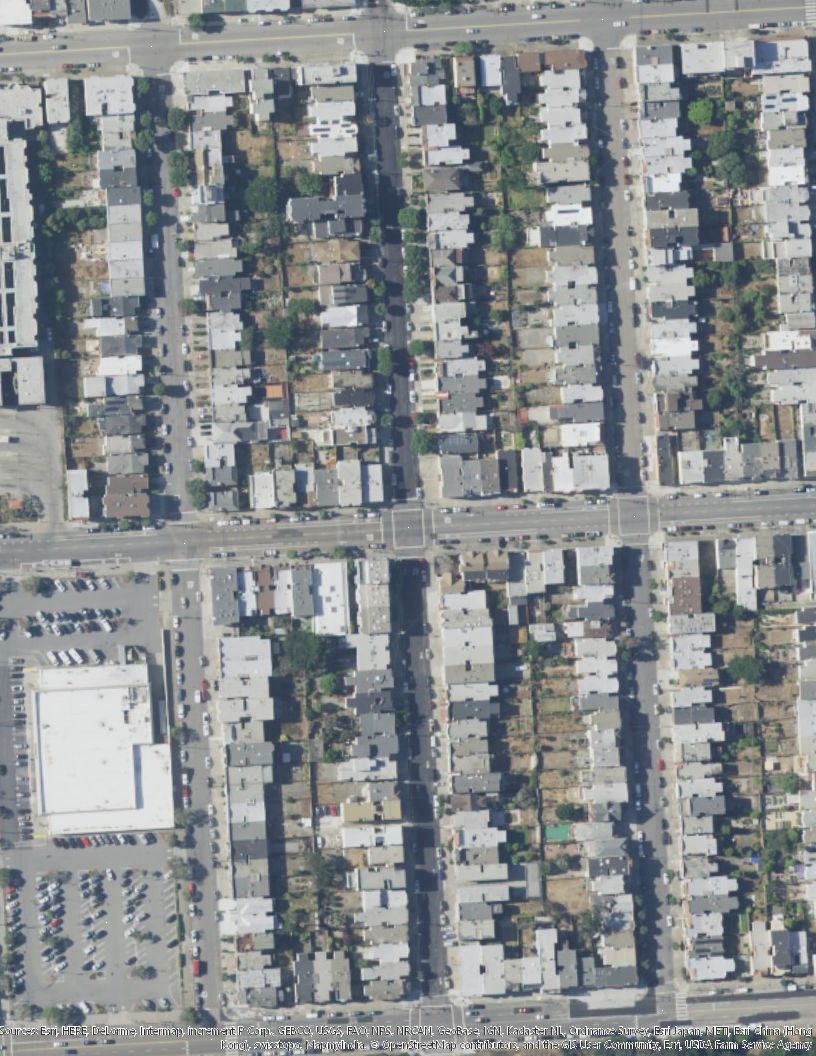zebracross: (675, 990, 688, 1024), (803, 1, 816, 26)
